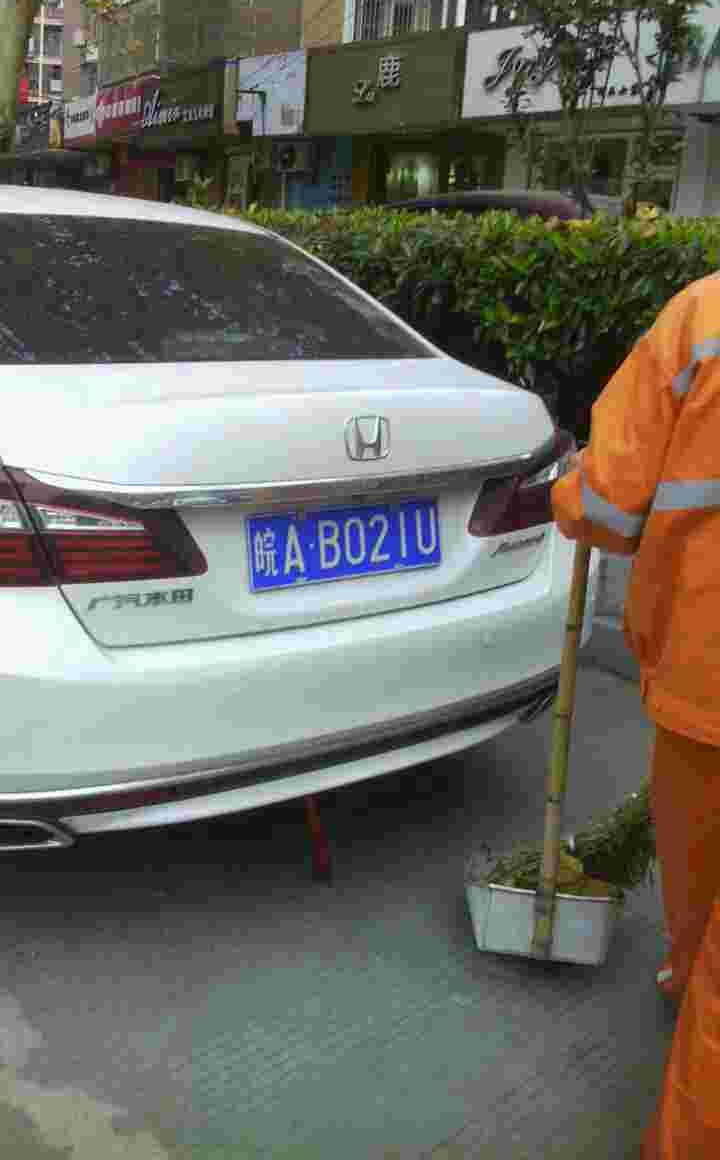plate: (255, 490, 447, 592)
